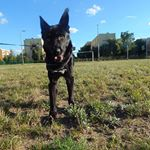puppy: (36, 6, 82, 122)
